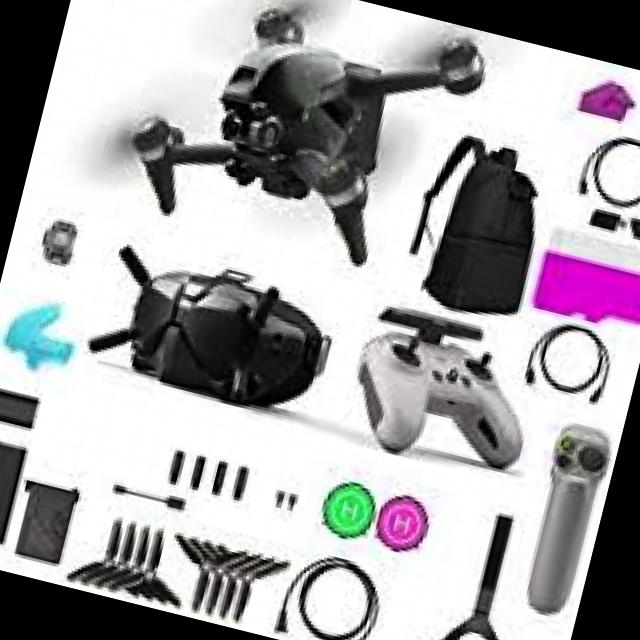drone: (98, 0, 511, 314)
